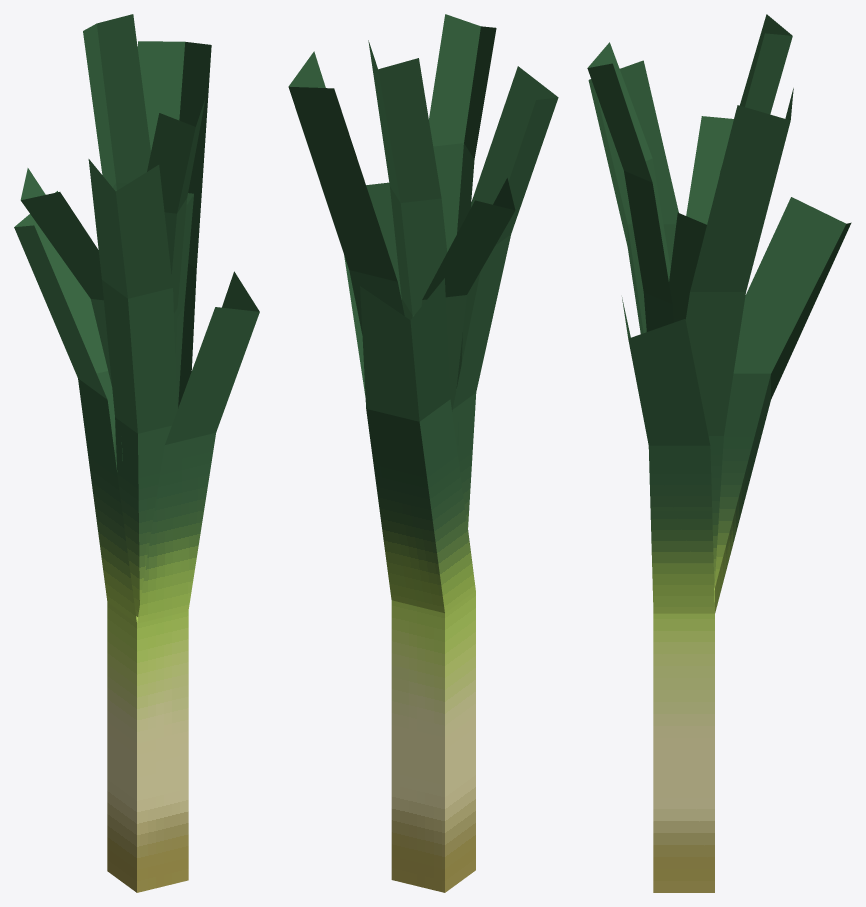
Rendered from leek.glb.
The picture shows the model from 3 angles, left to right: view 1: azimuth 30°, elevation 25°; view 2: azimuth 150°, elevation 25°; view 3: azimuth 270°, elevation 25°; orthographic projection. The views are drawn at different scales.
Visible parts, largest first — view 1: Cube; view 2: Cube; view 3: Cube.
Boxes of the visible parts, box(x1,y1,x2,y2) form: Cube: box(14, 14, 259, 892); Cube: box(288, 14, 558, 892); Cube: box(587, 14, 851, 892).
Size of the model in its own units: 11.97 by 49.17 by 13.71.
Materials: 1 (1 with a texture image).
